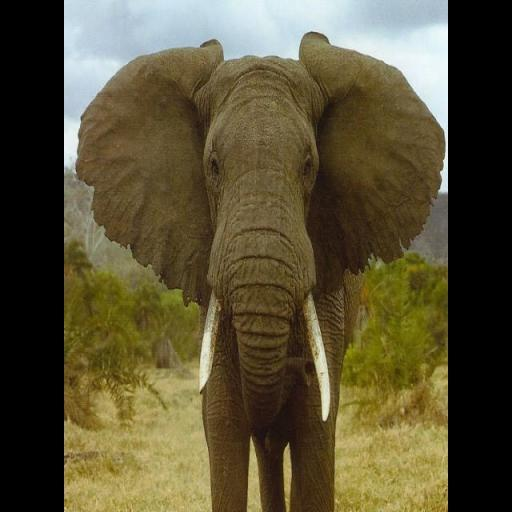Elephant: (74, 30, 446, 510)
